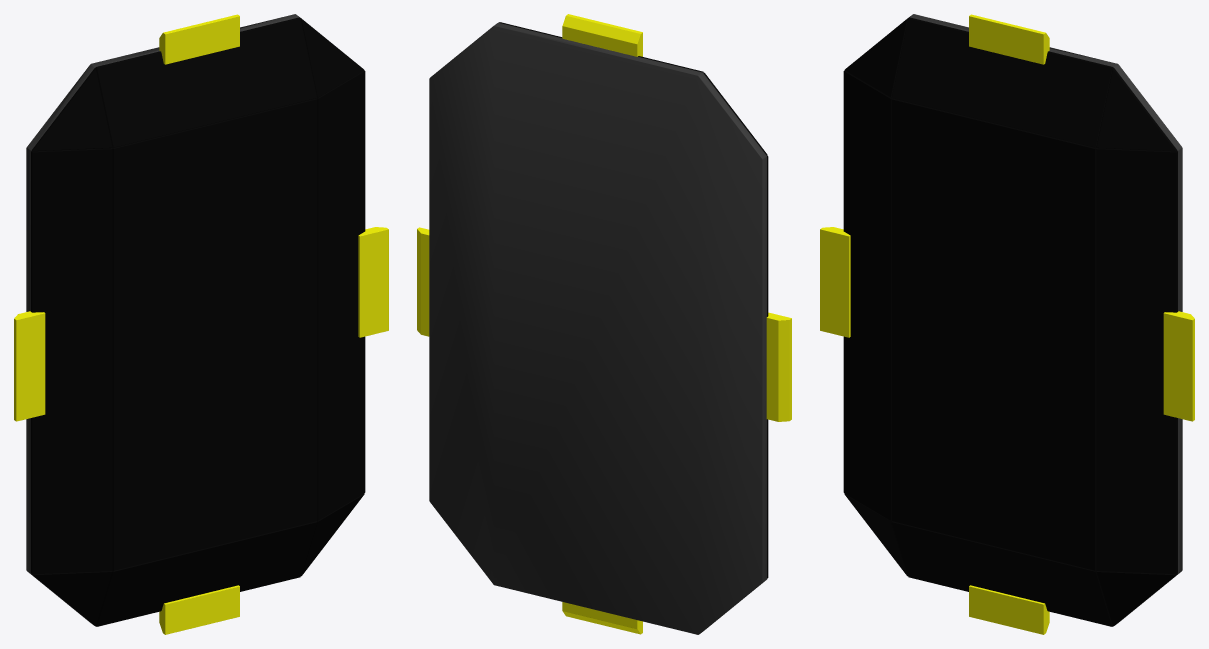
Rendered from designconnected-emerald-mirror-9036.optimized.glb.
3 views of the same model, side by side, from view 1: azimuth 30°, elevation 25°; view 2: azimuth 150°, elevation 25°; view 3: azimuth 330°, elevation 25° (orthographic).
Parts seen in each view (by area): view 1: Baker_Emerald_Mirror; view 2: Baker_Emerald_Mirror; view 3: Baker_Emerald_Mirror.
Part boxes in pixels (x1,y1,x2,y2): Baker_Emerald_Mirror: [14, 14, 388, 634]; Baker_Emerald_Mirror: [417, 14, 791, 634]; Baker_Emerald_Mirror: [820, 14, 1194, 634].
Bounding box in the file's own units: 0.845 × 1.3 × 0.089.
